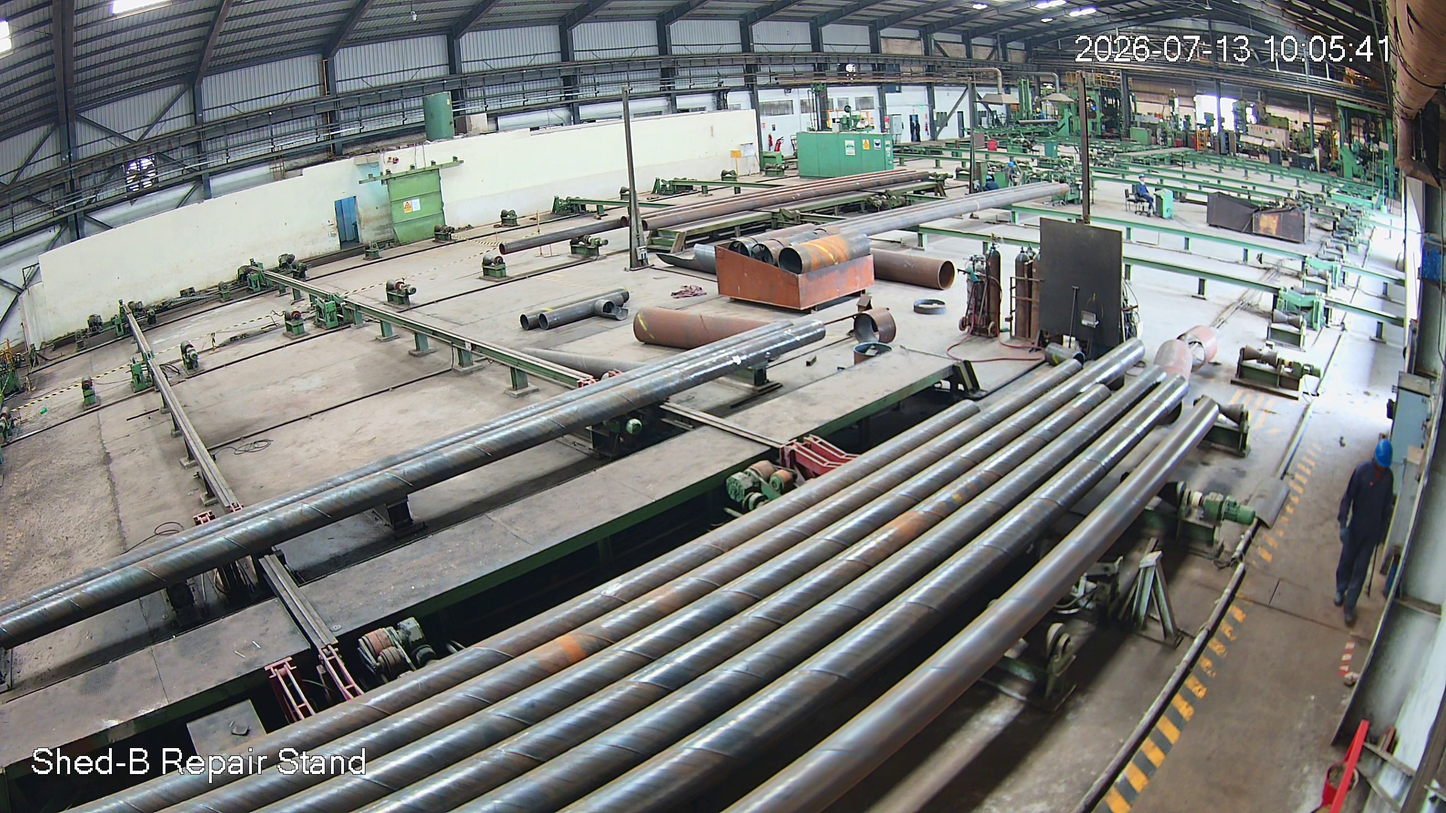Helmet: (1369, 439, 1398, 473)
Person: (1330, 441, 1400, 628)
